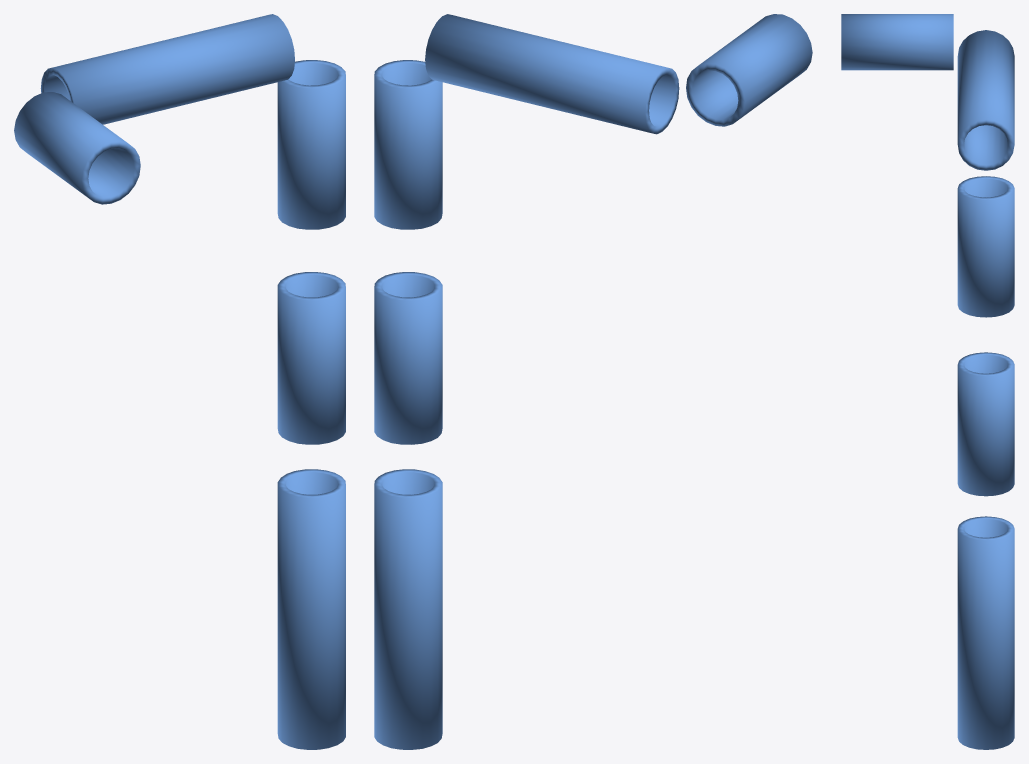
File: slab_pipes_supply__plumbing__f98d82b0.glb
The picture shows the model from 3 angles, left to right: view 1: azimuth 30°, elevation 25°; view 2: azimuth 150°, elevation 25°; view 3: azimuth 270°, elevation 25°; orthographic projection. The views are drawn at different scales.
Visible parts, largest first — view 1: pipe_supply_manifold_feed__pex.902; view 2: pipe_supply_manifold_feed__pex.902; view 3: pipe_supply_manifold_feed__pex.902.
Boxes of the visible parts, bbox=[...] form: pipe_supply_manifold_feed__pex.902: bbox=[14, 14, 345, 749]; pipe_supply_manifold_feed__pex.902: bbox=[374, 14, 812, 749]; pipe_supply_manifold_feed__pex.902: bbox=[841, 14, 1014, 749].
Size of the model in its own units: 0.1302 by 0.2611 by 0.0677.
